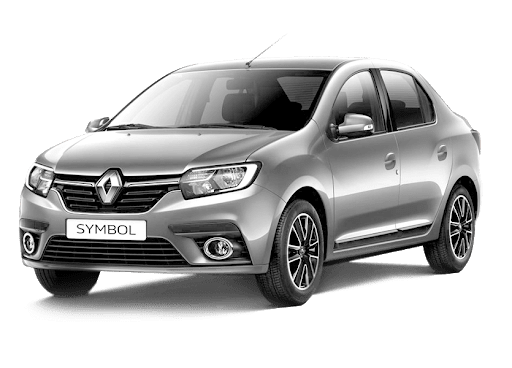car: (16, 40, 507, 306)
